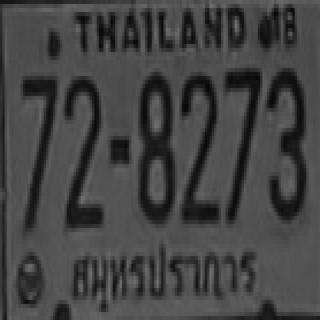N02: (62, 74, 101, 226), (180, 70, 216, 222)
N03: (266, 64, 305, 220)
N07: (223, 64, 260, 220), (21, 72, 55, 228), (223, 64, 260, 204)
N08: (136, 68, 173, 220)
P57: (67, 243, 263, 308)
